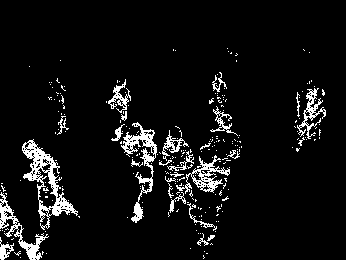person: (18, 139, 84, 230), (187, 148, 227, 260), (117, 120, 157, 222), (160, 124, 194, 216), (292, 81, 328, 154), (198, 113, 243, 162), (105, 76, 132, 144), (209, 72, 229, 114)
